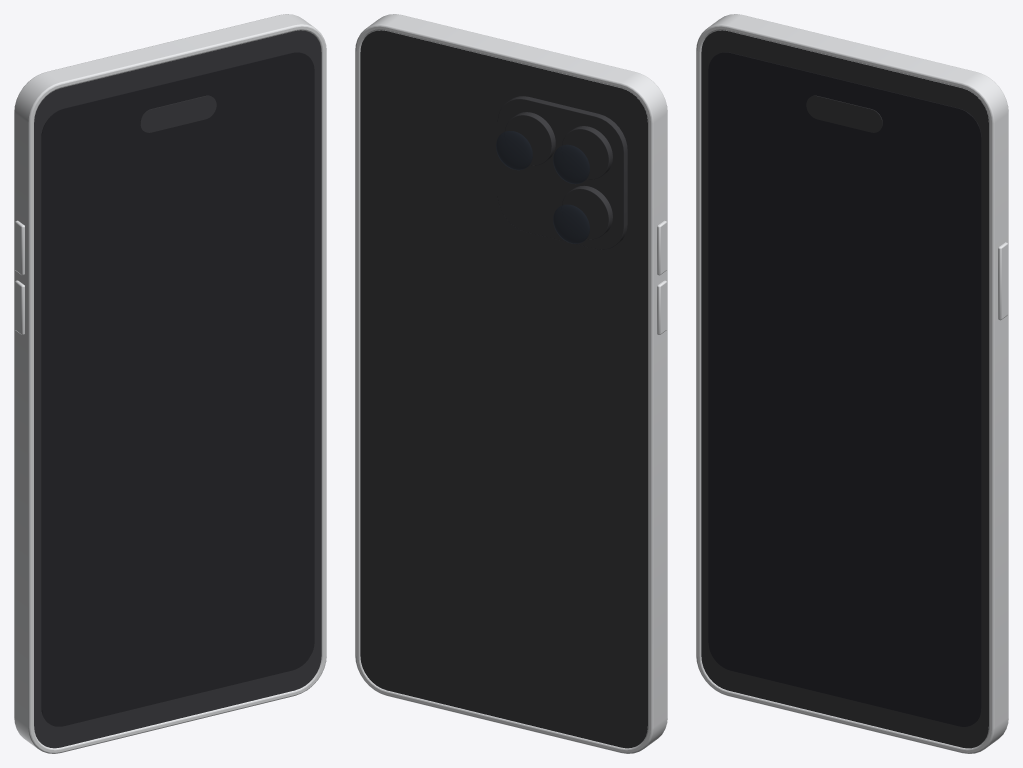
The model's file is phone.glb.
3 views of the same model, side by side, from view 1: azimuth 30°, elevation 25°; view 2: azimuth 150°, elevation 25°; view 3: azimuth 330°, elevation 25° (orthographic).
Parts seen in each view (by area): view 1: screen, frame, body, notch, buttons; view 2: body, frame, camera_bump, buttons; view 3: screen, frame, body, notch, buttons.
Part boxes in pixels (x1,y1,x2,y2): screen: (41, 52, 314, 726); frame: (14, 14, 326, 753); body: (34, 30, 321, 748); notch: (140, 95, 216, 132); buttons: (15, 220, 24, 334); body: (360, 30, 647, 748); frame: (355, 14, 667, 753); camera_bump: (496, 96, 627, 249); buttons: (657, 220, 666, 334); screen: (708, 52, 981, 726); frame: (696, 14, 1008, 753); body: (701, 30, 988, 748); notch: (806, 95, 882, 132); buttons: (998, 242, 1007, 320).
Bounding box in the file's own units: 0.96 × 2.02 × 0.2148.
